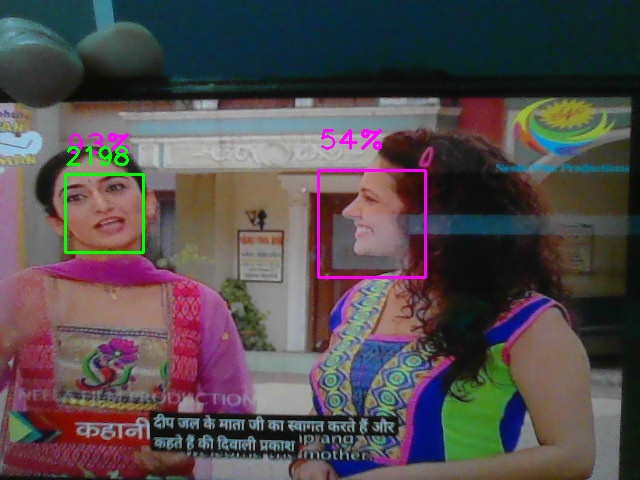fake: (65, 174, 144, 253)
